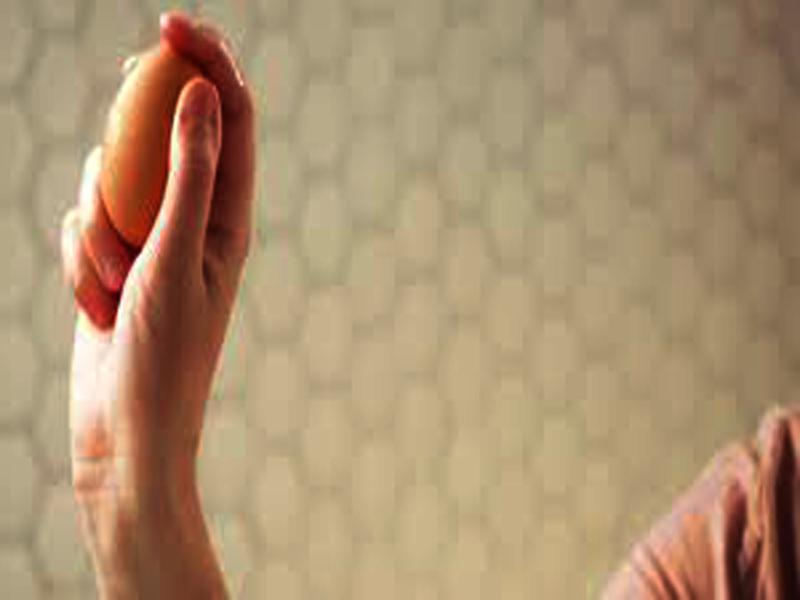Eggs: (95, 46, 212, 246)
